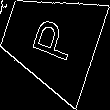P_W: (23, 15, 77, 66)
